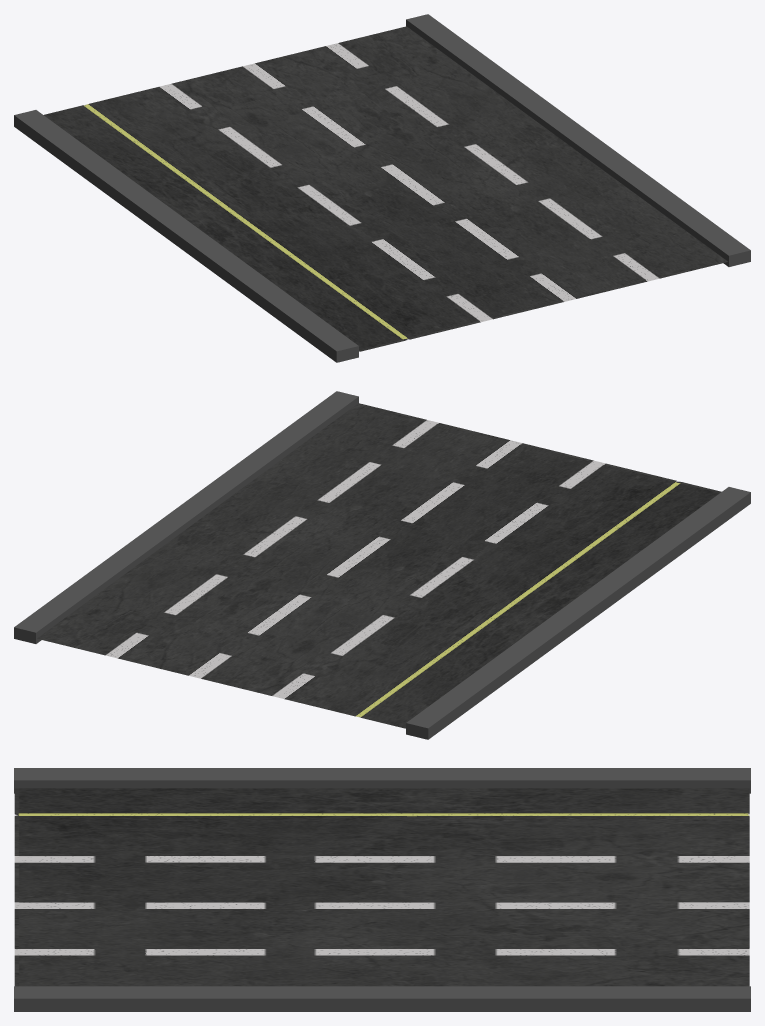
File: 4-Lane-Road_RIGHT.fbx
3 views of the same model, one above another, from view 1: azimuth 30°, elevation 25°; view 2: azimuth 150°, elevation 25°; view 3: azimuth 270°, elevation 25° (orthographic). The views are drawn at different scales.
Parts seen in each view (by area): view 1: pPlane16, pCube42, pCube43; view 2: pPlane16, pCube42, pCube43; view 3: pPlane16, pCube43, pCube42.
Boxes of the visible parts, x1,y1,x2,y2 form: pPlane16: (44, 26, 727, 351); pCube42: (14, 110, 358, 362); pCube43: (406, 14, 750, 266); pPlane16: (37, 403, 721, 728); pCube42: (406, 487, 750, 739); pCube43: (14, 391, 358, 643); pPlane16: (14, 788, 749, 986); pCube43: (14, 986, 750, 1011); pCube42: (14, 768, 750, 793).
Size of the model in its own units: 70.8 by 1.88 by 95.55.
2 materials, 1 textured.
